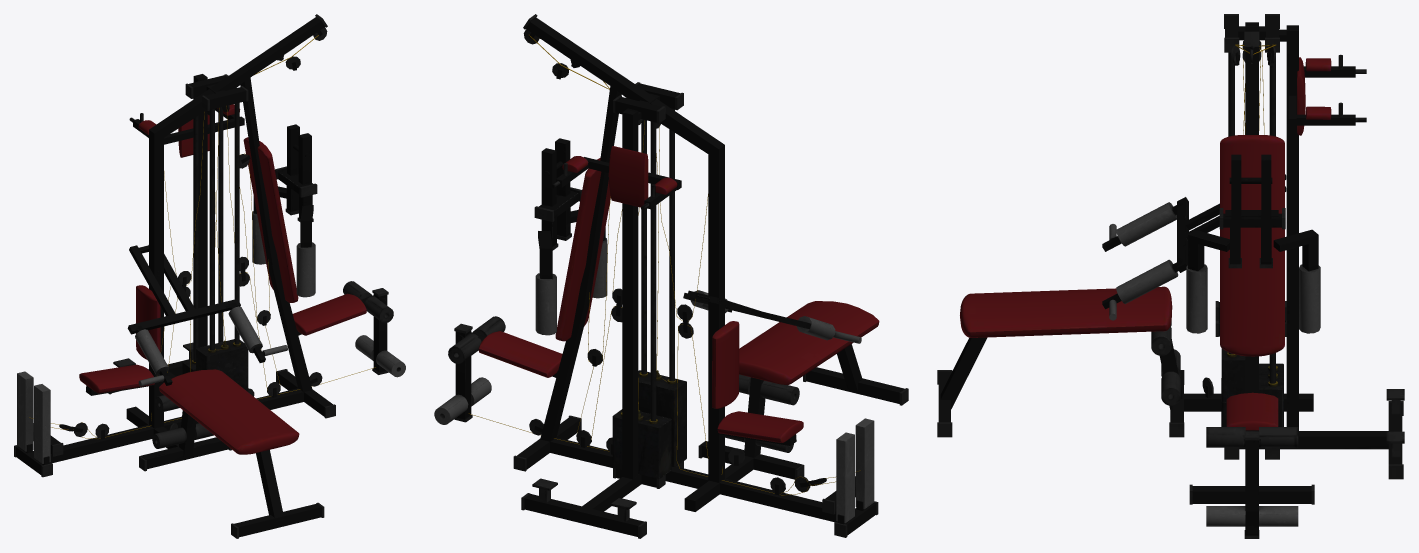
3 views of the same model, side by side, from view 1: azimuth 30°, elevation 25°; view 2: azimuth 150°, elevation 25°; view 3: azimuth 270°, elevation 25° (orthographic). The views are drawn at different scales.
Visible parts, largest first — view 1: Object_4, Object_5, Object_3; view 2: Object_4, Object_5, Object_3; view 3: Object_4, Object_5.
Boxes of the visible parts, <box> form: Object_4: <box>14,14,393,538</box>; Object_5: <box>17,124,405,463</box>; Object_3: <box>29,35,375,439</box>; Object_4: <box>448,14,908,538</box>; Object_5: <box>434,138,874,523</box>; Object_3: <box>468,35,860,495</box>; Object_4: <box>937,14,1404,504</box>; Object_5: <box>1102,154,1320,538</box>.
Bounding box in the file's own units: 81.42 × 82.36 × 72.79.
Materials: 3 (2 with a texture image).
